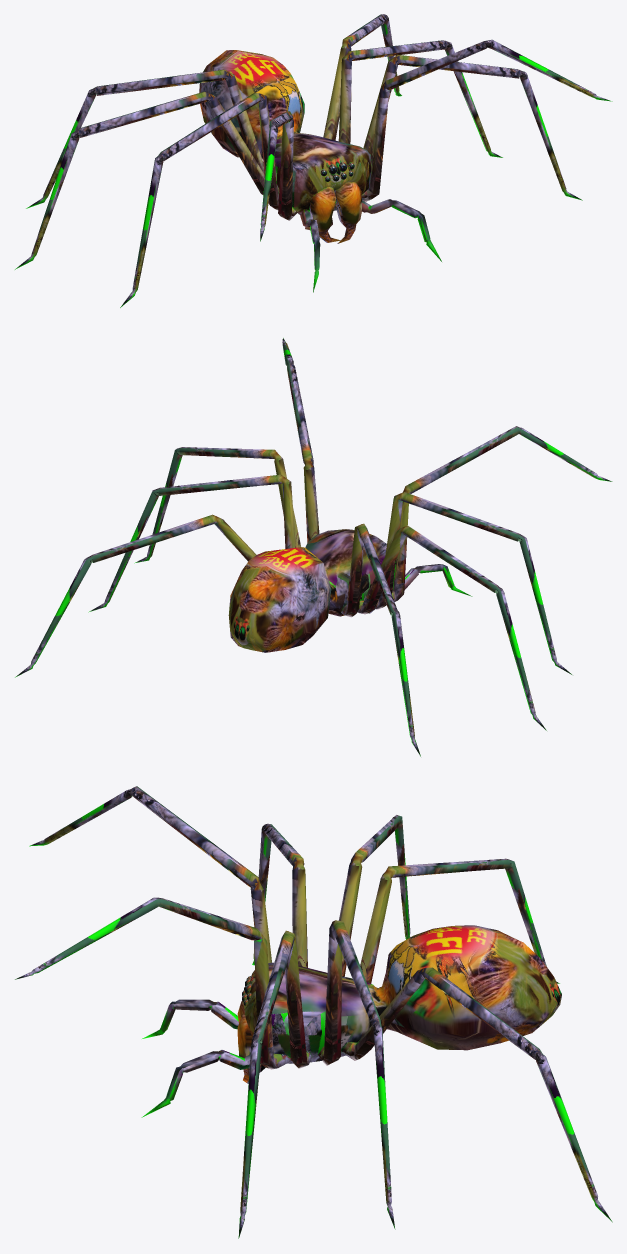
File: mythnix.glb
The picture shows the model from 3 angles, top to bottom: view 1: azimuth 30°, elevation 25°; view 2: azimuth 150°, elevation 25°; view 3: azimuth 270°, elevation 25°; orthographic projection. The views are drawn at different scales.
Visible parts, largest first — view 1: Spiders; view 2: Spiders; view 3: Spiders.
Boxes of the visible parts, x1=… form: Spiders: x1=15, y1=14, x2=612, y2=307; Spiders: x1=15, y1=338, x2=612, y2=756; Spiders: x1=15, y1=786, x2=612, y2=1238.
Size of the model in its own units: 2.97 by 1.24 by 2.52.
Materials: 1 (1 with a texture image).
